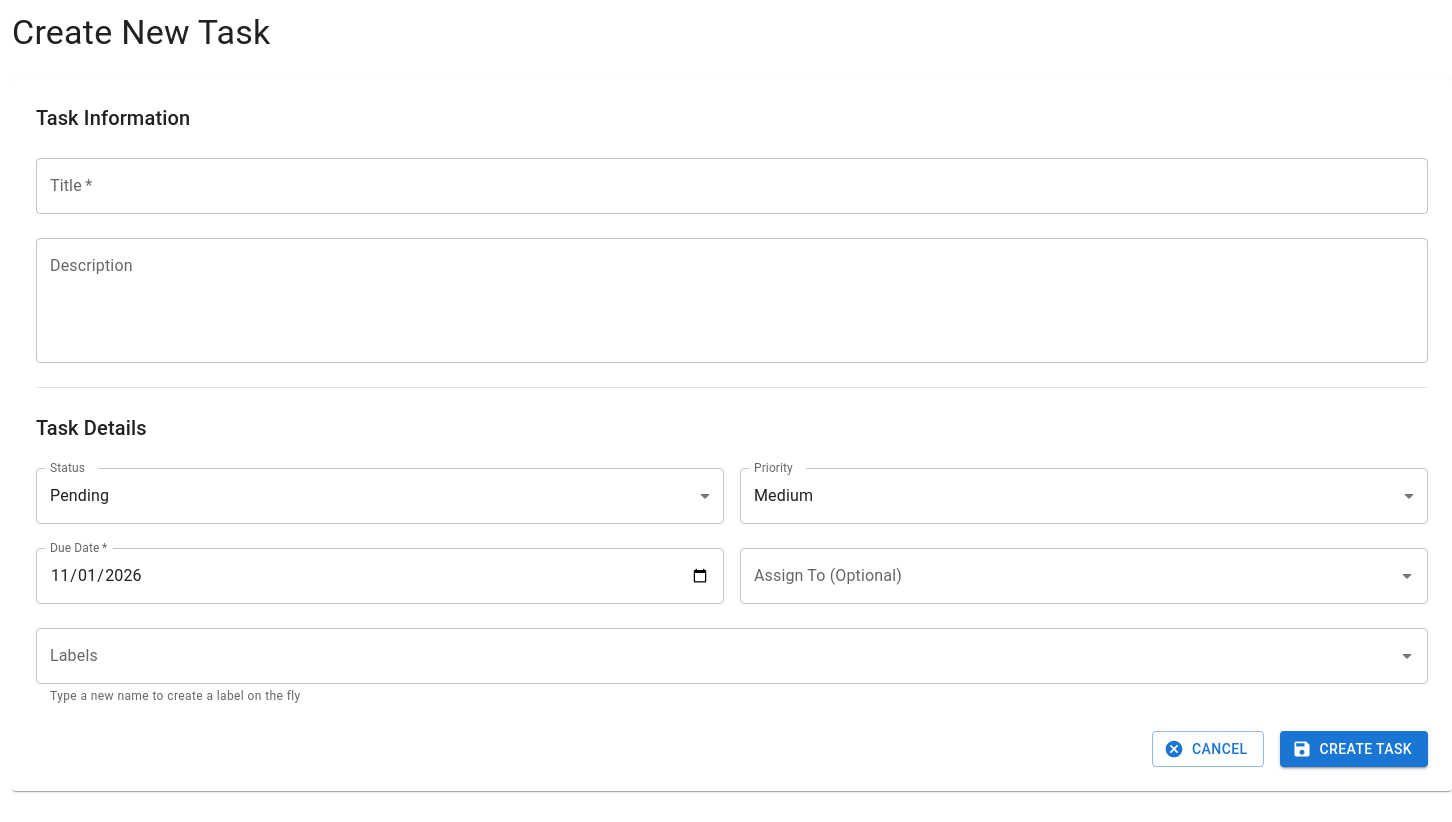
Scenario: TaskForm inline label creation › recovers from a duplicate-name 409 by selecting the existing label
Type "Renewals" into the dropdown labelled "Labels" at [717, 656], box [45,637,1389,675]
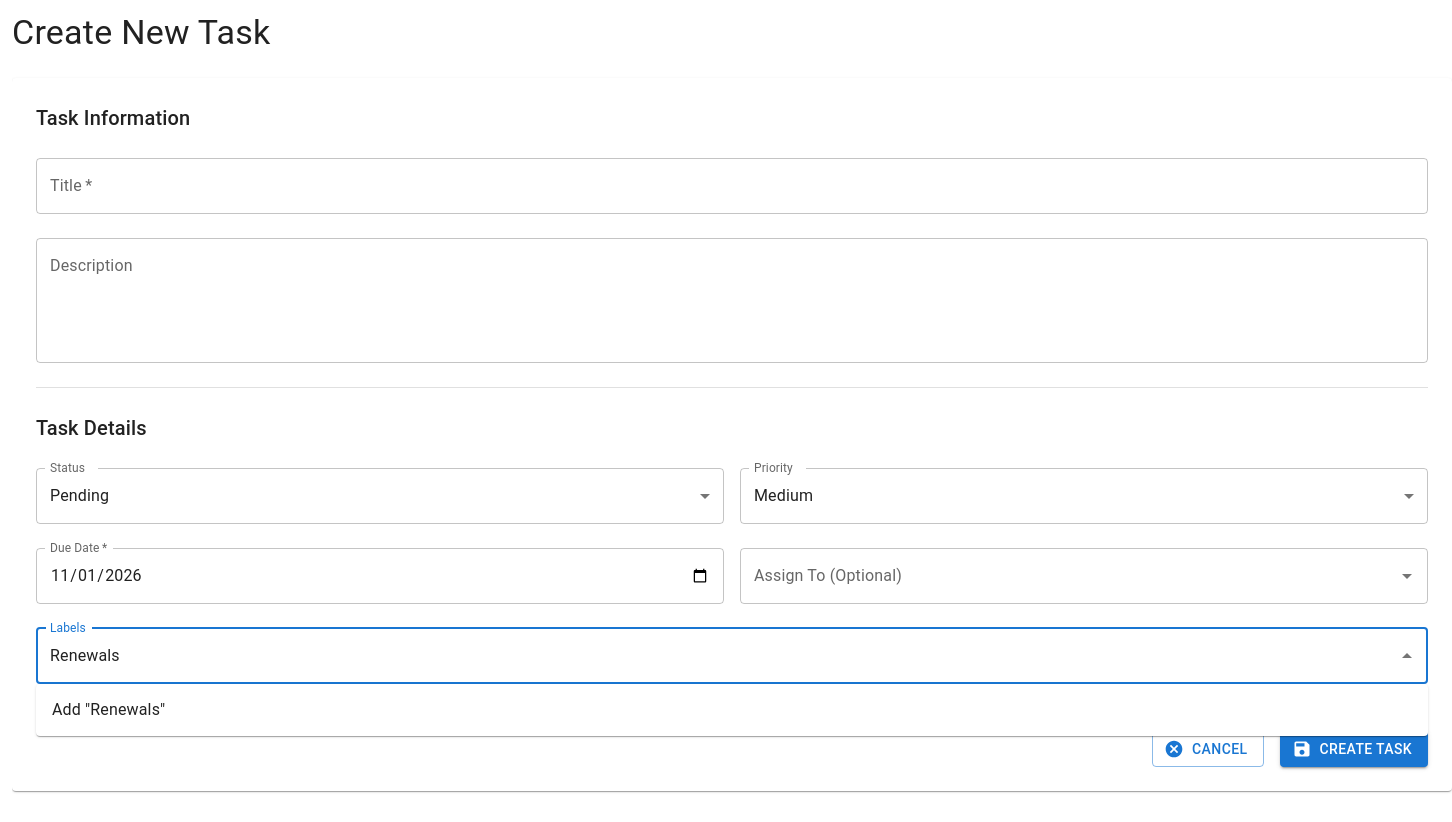
Click the option "Add \"Renewals\"" at [109, 710], box [52,700,165,719]
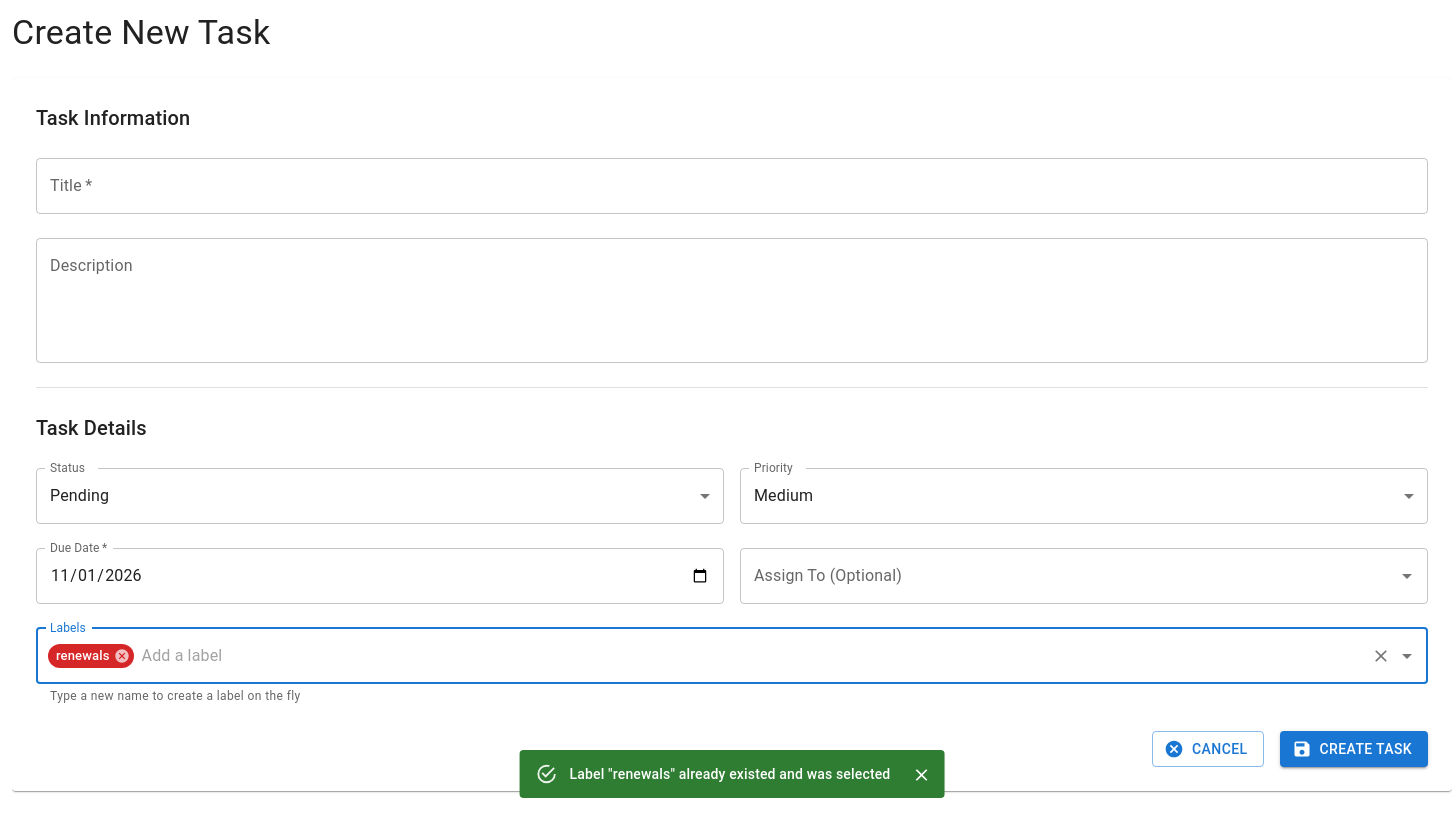
Check: the text "renewals" is shown, box [56,648,110,663]
